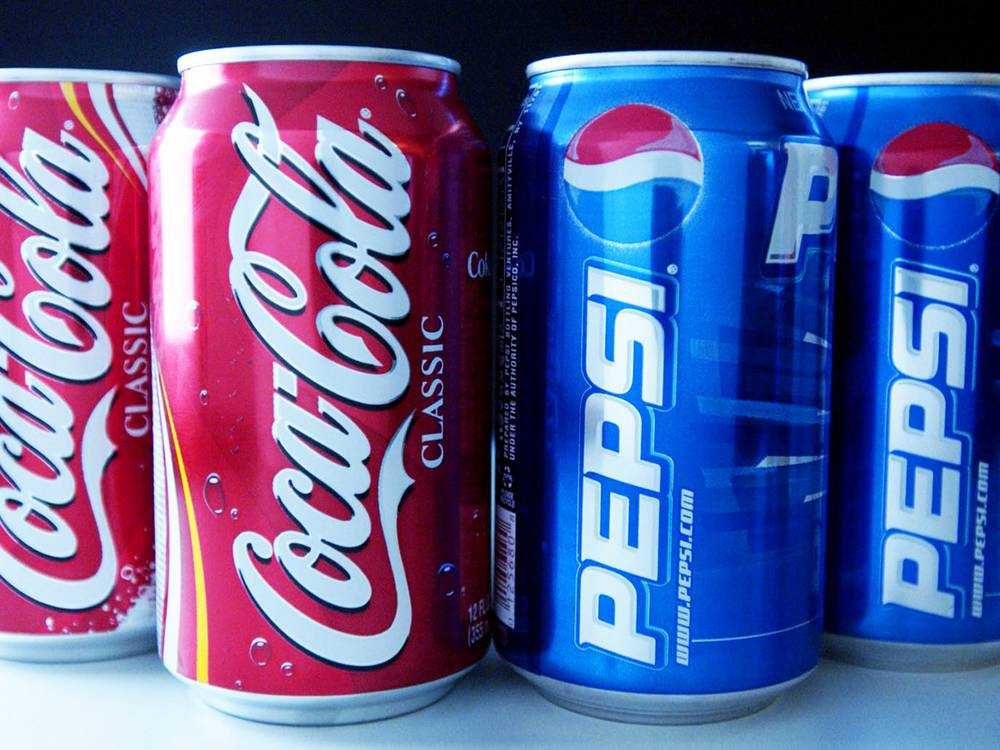pepsi: (563, 104, 704, 241), (565, 104, 704, 241), (858, 117, 997, 248), (868, 119, 997, 248)
